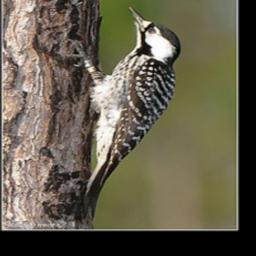Woodpecker: (59, 6, 182, 223)
